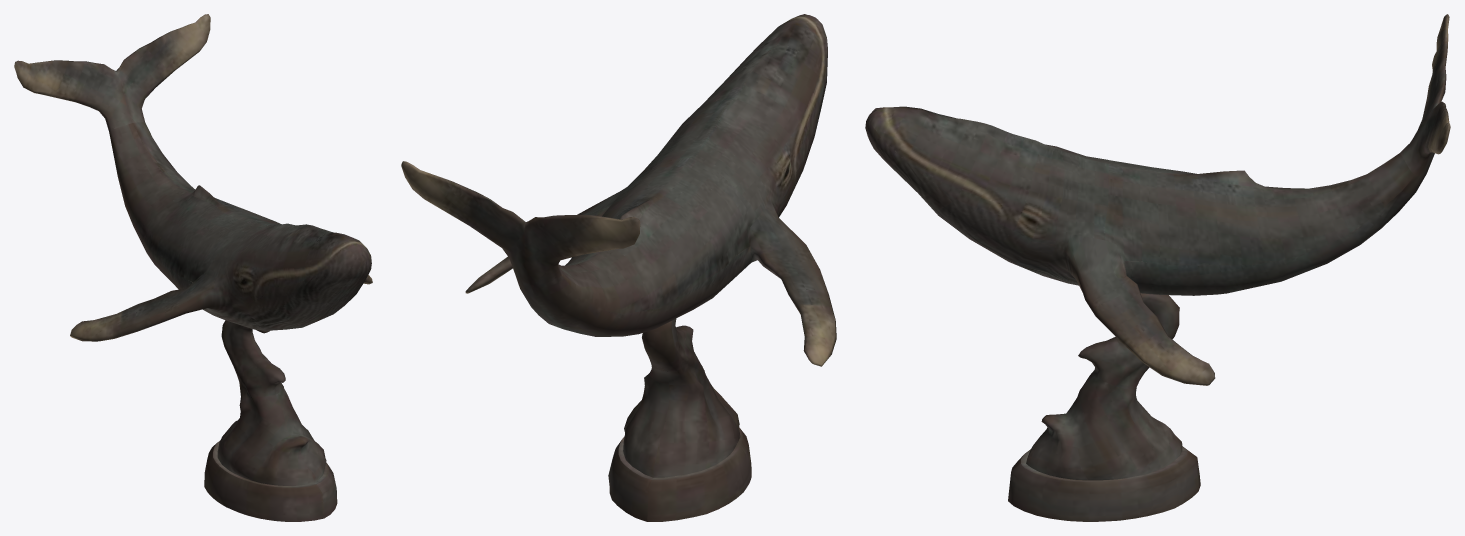
File: whale.glb
The picture shows the model from 3 angles, left to right: view 1: azimuth 30°, elevation 25°; view 2: azimuth 150°, elevation 25°; view 3: azimuth 270°, elevation 25°; orthographic projection. The views are drawn at different scales.
Parts seen in each view (by area): view 1: bronze_whale_statue; view 2: bronze_whale_statue; view 3: bronze_whale_statue.
Part boxes in pixels (x1,y1,x2,y2): bronze_whale_statue: (14, 14, 372, 521); bronze_whale_statue: (401, 14, 836, 521); bronze_whale_statue: (865, 14, 1450, 521).
Size of the model in its own units: 0.4343 by 0.5 by 0.6366.
1 material, 1 textured.
